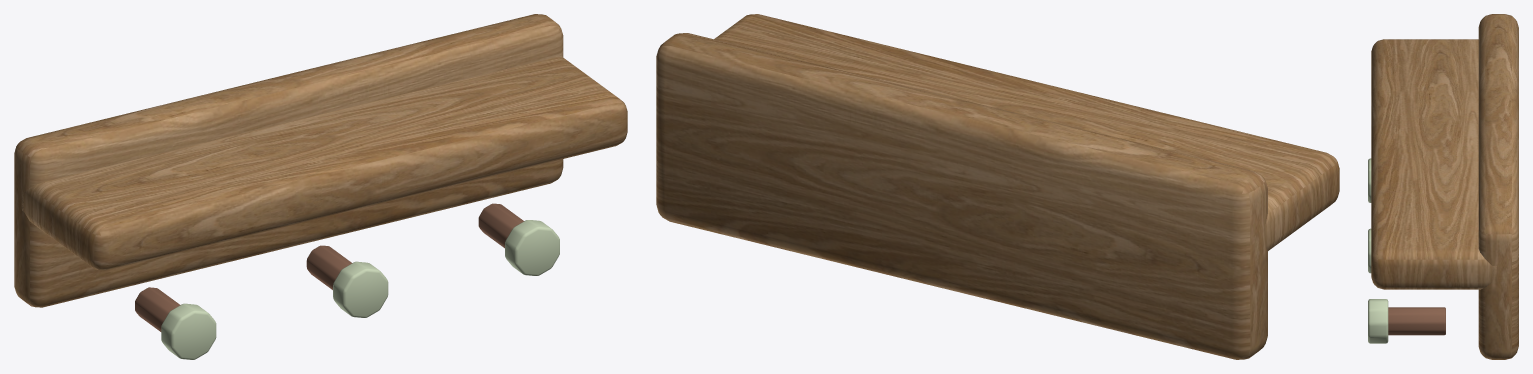
The model's file is wall-shelf.glb.
3 renders of one model, left to right at view 1: azimuth 30°, elevation 25°; view 2: azimuth 150°, elevation 25°; view 3: azimuth 270°, elevation 25°, orthographic. The views are drawn at different scales.
Visible parts, largest first — view 1: catalog_surface_RealismUV; view 2: catalog_surface_RealismUV; view 3: catalog_surface_RealismUV.
Part boxes in pixels (x1,y1,x2,y2): catalog_surface_RealismUV: [14, 14, 627, 359]; catalog_surface_RealismUV: [656, 14, 1339, 359]; catalog_surface_RealismUV: [1368, 14, 1518, 359].
Size of the model in its own units: 0.9 by 0.2912 by 0.2613.
Materials: 3 (1 with a texture image).
